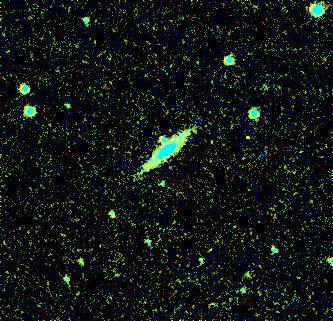star: (235, 122, 265, 152)
